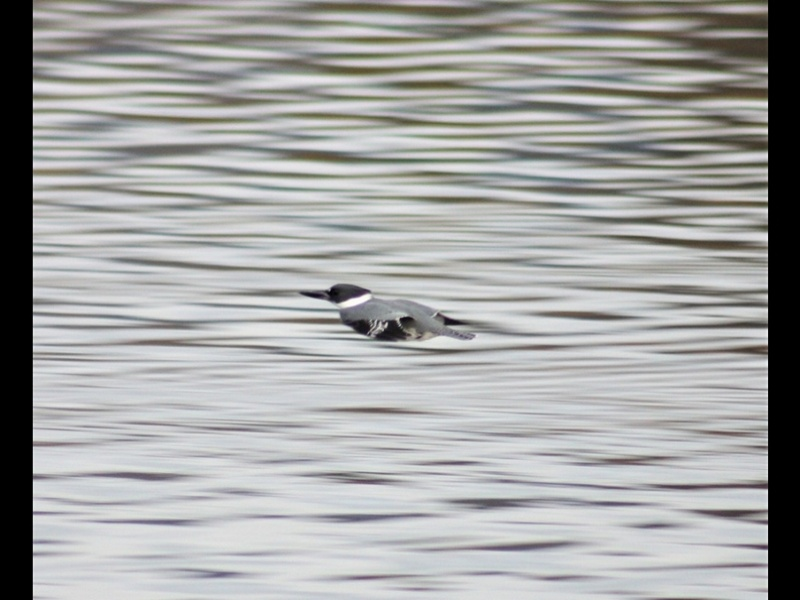kingfisher: (295, 281, 476, 347)
